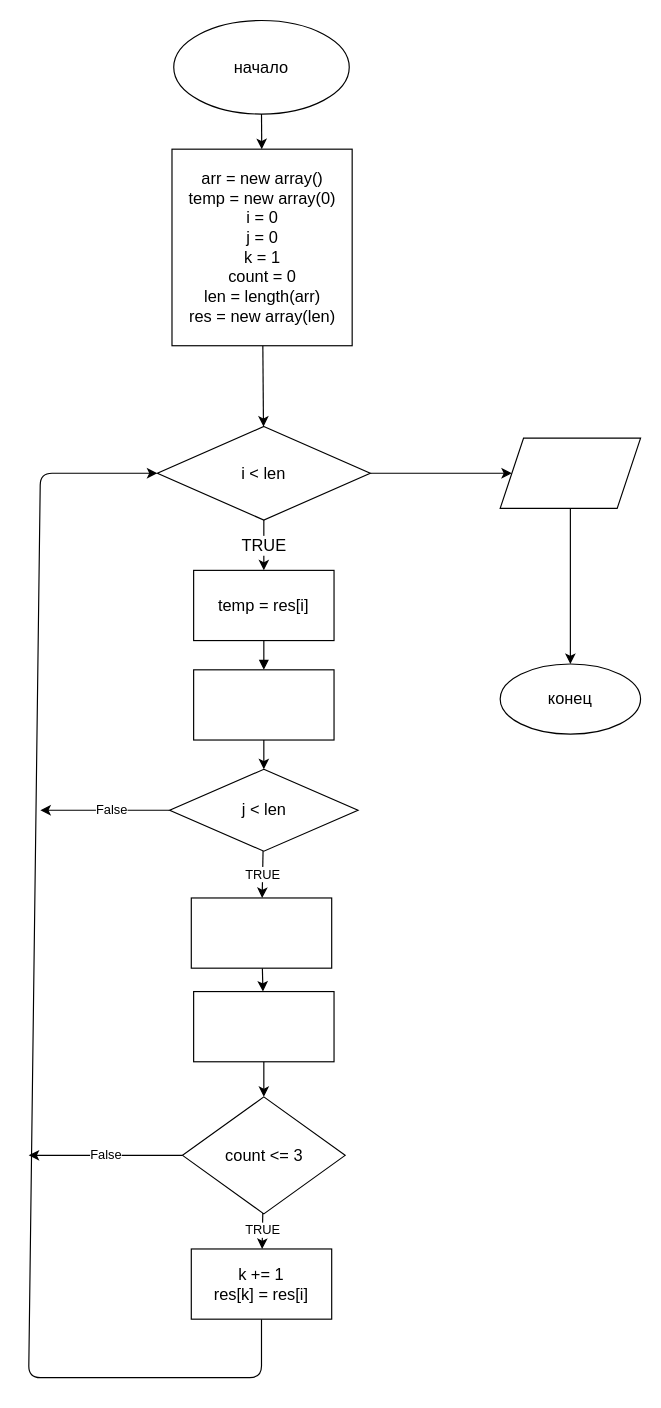
The diagram is 661 pixels wide and 1408 high, and some of its shapes have lost their labels. The box of each missing label's shape, as (x1, y1, x2, y2) in pixels:
count = j + 1: (190, 897, 332, 968)
i += 1: (192, 669, 334, 740)
j += 1: (192, 990, 334, 1062)
res: (499, 437, 641, 508)
